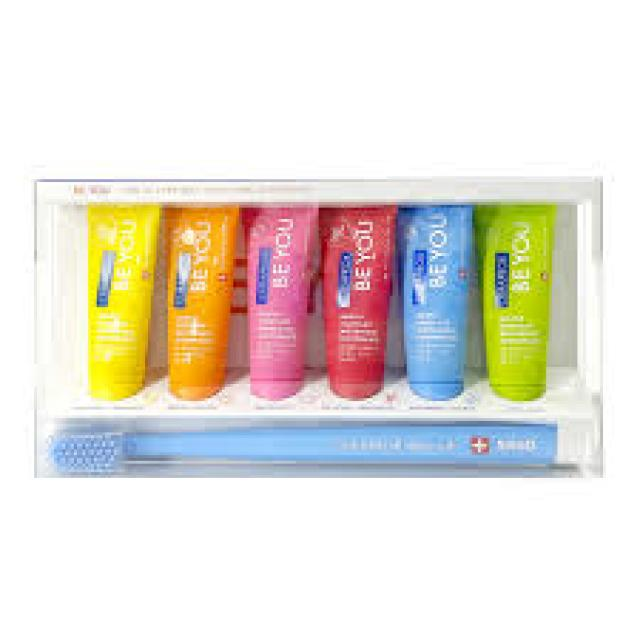toothpaste: (66, 200, 169, 412), (478, 210, 562, 410), (322, 204, 402, 403), (242, 204, 317, 406), (159, 204, 235, 400), (402, 199, 474, 399)
